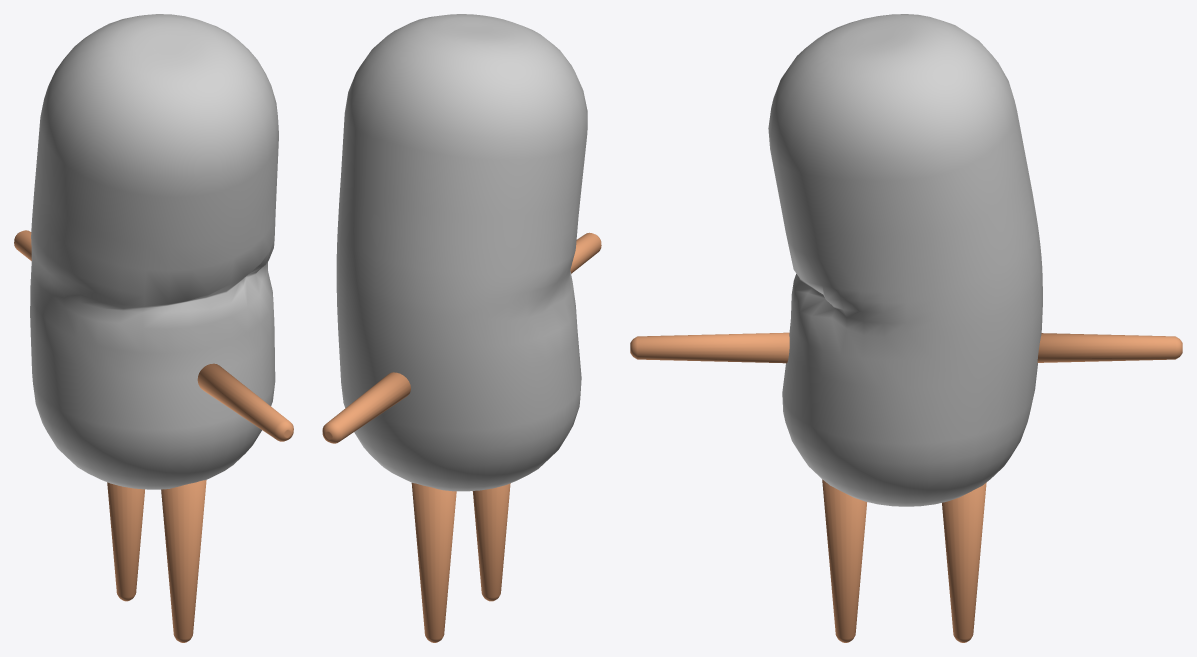
File: beanboi1.gltf
The picture shows the model from 3 angles, left to right: view 1: azimuth 30°, elevation 25°; view 2: azimuth 150°, elevation 25°; view 3: azimuth 270°, elevation 25°; orthographic projection. The views are drawn at different scales.
Visible parts, largest first — view 1: Cylinder, leg.001, leg, arm.001, arm; view 2: Cylinder, leg, leg.001, arm, arm.001; view 3: Cylinder, leg.001, leg, arm.001, arm.
Part boxes in pixels (bbox=[...]): Cylinder: bbox=[30, 14, 278, 489]; leg.001: bbox=[161, 480, 206, 642]; leg: bbox=[107, 482, 144, 601]; arm.001: bbox=[197, 363, 293, 441]; arm: bbox=[14, 230, 31, 260]; Cylinder: bbox=[336, 14, 587, 491]; leg: bbox=[411, 483, 456, 642]; leg.001: bbox=[472, 483, 510, 601]; arm: bbox=[322, 372, 410, 443]; arm.001: bbox=[570, 232, 601, 273]; Cylinder: bbox=[768, 14, 1042, 506]; leg.001: bbox=[822, 479, 867, 642]; leg: bbox=[942, 482, 986, 642]; arm.001: bbox=[630, 332, 789, 363]; arm: bbox=[1037, 333, 1182, 362].
Bounding box in the file's own units: 4.26 × 11.42 × 9.37.
